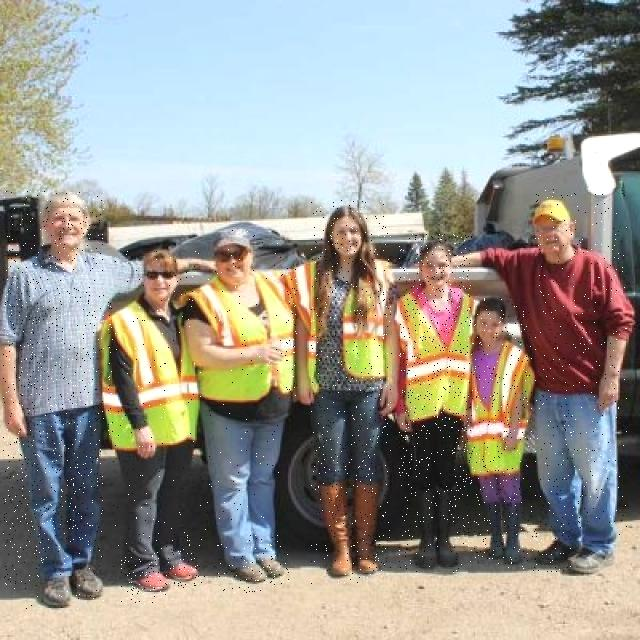boots: (563, 527, 622, 583), (311, 527, 358, 584), (154, 537, 202, 589), (218, 544, 267, 594), (26, 566, 78, 612), (121, 554, 168, 604), (527, 524, 574, 574), (246, 535, 289, 587), (66, 556, 108, 602), (352, 527, 387, 578), (477, 514, 512, 564), (403, 523, 438, 572), (434, 526, 468, 574), (498, 526, 526, 568)
vest: (108, 302, 205, 449), (206, 268, 297, 404), (406, 292, 472, 421), (470, 338, 531, 476), (336, 272, 392, 388)
